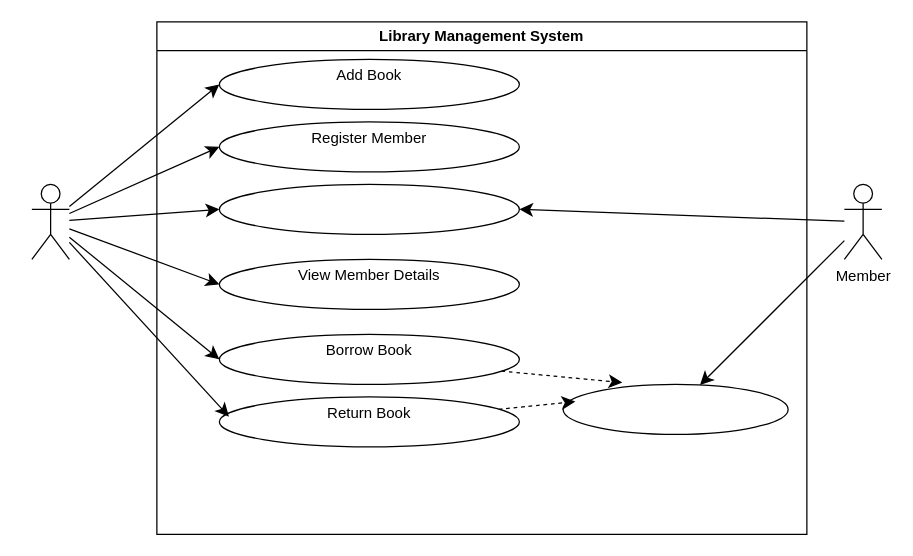
Some shapes in this 913 by 556 pixel diagram are drawn without their labels. Each missing label, with the centre of its shape:
Check Book Availability: the point at 675,408
Librarian: the point at 50,221
View Books: the point at 368,208
